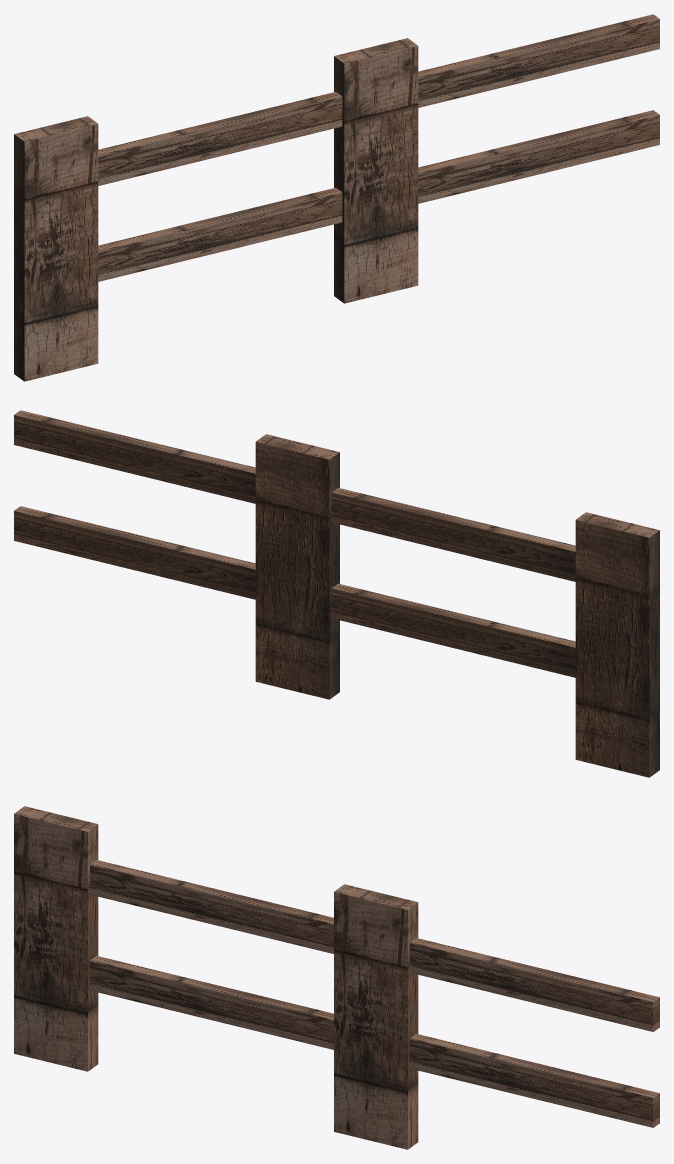
Rendered from fencewood.fbx_Fence_open.fbx.
3 renders of one model, top to bottom at view 1: azimuth 30°, elevation 25°; view 2: azimuth 150°, elevation 25°; view 3: azimuth 330°, elevation 25°, orthographic.
Visible parts, largest first — view 1: Cube, Cube.003, Cube.001, Cube.002, Cube.004, Cube.005; view 2: Cube, Cube.003, Cube.002, Cube.001, Cube.004, Cube.005; view 3: Cube, Cube.003, Cube.005, Cube.004, Cube.001, Cube.002.
Part boxes in pixels (x1=…): Cube: x1=14, y1=116, x2=98, y2=381; Cube.003: x1=334, y1=38, x2=418, y2=303; Cube.001: x1=98, y1=92, x2=342, y2=185; Cube.002: x1=98, y1=187, x2=342, y2=281; Cube.004: x1=418, y1=110, x2=659, y2=203; Cube.005: x1=418, y1=14, x2=659, y2=107; Cube: x1=575, y1=512, x2=659, y2=777; Cube.003: x1=255, y1=434, x2=339, y2=699; Cube.002: x1=331, y1=583, x2=575, y2=677; Cube.001: x1=331, y1=487, x2=575, y2=581; Cube.004: x1=14, y1=506, x2=255, y2=599; Cube.005: x1=14, y1=410, x2=255, y2=503; Cube: x1=14, y1=806, x2=98, y2=1071; Cube.003: x1=334, y1=884, x2=418, y2=1149; Cube.005: x1=409, y1=938, x2=659, y2=1031; Cube.004: x1=409, y1=1034, x2=659, y2=1127; Cube.001: x1=90, y1=860, x2=333, y2=953; Cube.002: x1=90, y1=955, x2=333, y2=1049.
Bounding box in the file's own units: 556 × 200 × 15.89.
